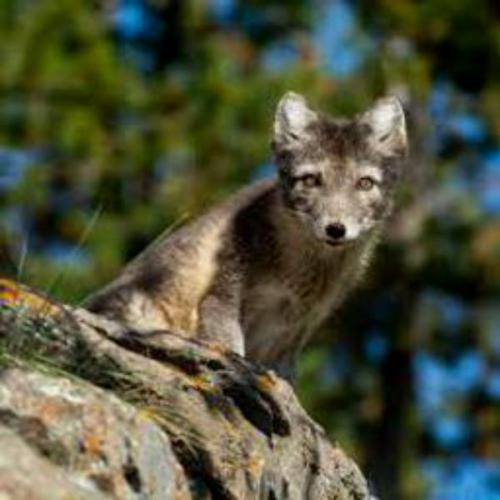arctic_fox-endangered: (77, 90, 409, 376)
